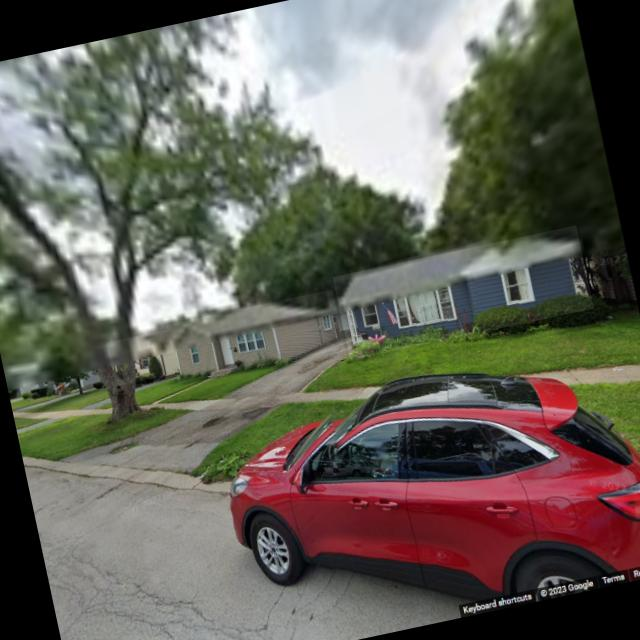House: (332, 224, 594, 360), (166, 289, 344, 383), (106, 328, 181, 386)
